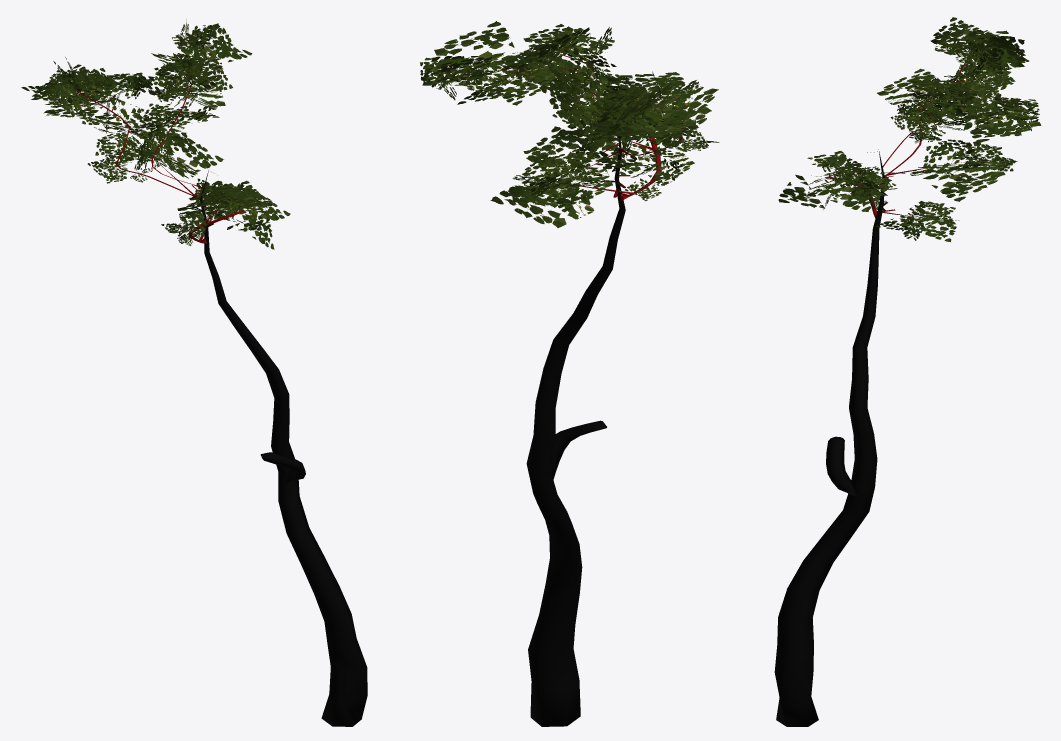
3 views of the same model, side by side, from view 1: azimuth 30°, elevation 25°; view 2: azimuth 150°, elevation 25°; view 3: azimuth 270°, elevation 25° (orthographic). The views are drawn at different scales.
Parts seen in each view (by area): view 1: Tree13; view 2: Tree13; view 3: Tree13.
Part boxes in pixels (x1=…): Tree13: x1=21, y1=20, x2=367, y2=726; Tree13: x1=420, y1=21, x2=719, y2=726; Tree13: x1=774, y1=17, x2=1041, y2=726.
Size of the model in its own units: 2.2 by 5.4 by 2.2.
